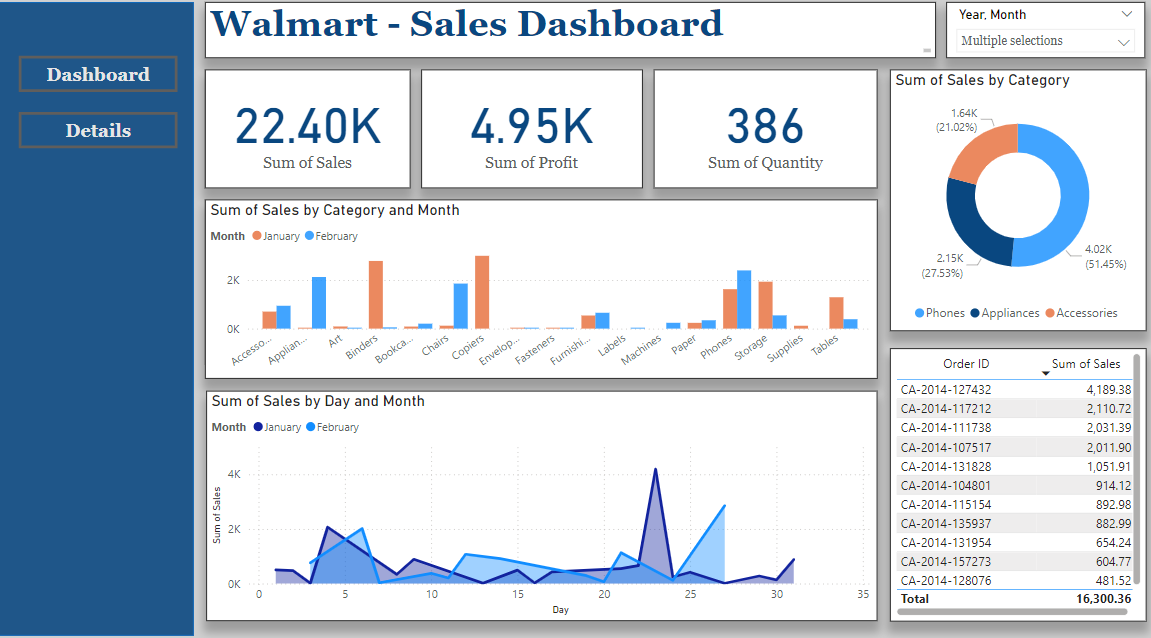

The page's visual inventory and layout, read from the dashboard file:
{"tool":"powerbi","page":{"name":"Page 1","canvas":[1280,720],"ordinal":0},"visuals":[{"type":"card","fields":{"Values":["Sum(Walmart.Sales)"]},"box":[235.7,85.7,225.7,130],"z":0,"group":"g1"},{"type":"shape","box":[9.6,11,214.1,695.7],"z":0},{"type":"card","fields":{"Values":["Sum(Walmart.Profit)"]},"box":[472.8,85.7,242.9,130],"z":1000,"group":"g1"},{"type":"actionButton","box":[31.6,70,174.3,39.8],"z":1000},{"type":"card","fields":{"Values":["Sum(Walmart.Quantity)"]},"box":[728.6,85.7,245.7,130],"z":2000,"group":"g1"},{"type":"actionButton","box":[31.6,131.7,174.3,39.8],"z":2000},{"type":"textbox","title":"Walmart - Sales Dashboard","box":[236,11,802.7,61.7],"z":3000},{"type":"clusteredColumnChart","fields":{"Category":["Walmart.Category"],"Y":["Sum(Walmart.Sales)"],"Series":["Walmart.Order Month.Variation.Date Hierarchy.Month"]},"box":[235.7,228.6,738.6,197.1],"z":3000,"group":"g1"},{"type":"slicer","fields":{"Values":["Walmart.Order Month.Variation.Date Hierarchy.Year","Walmart.Order Month.Variation.Date Hierarchy.Month"]},"box":[1049.7,11,218.2,61.7],"z":4000},{"type":"areaChart","fields":{"Category":["Walmart.Order Month.Variation.Date Hierarchy.Day"],"Y":["Sum(Walmart.Sales)"],"Series":["Walmart.Order Month.Variation.Date Hierarchy.Month"]},"box":[237.1,438.6,737.1,252.9],"z":4000,"group":"g1"},{"type":"donutChart","fields":{"Y":["Sum(Walmart.Sales)"],"Category":["Walmart.Category"]},"box":[987.1,85.7,281.4,287.1],"z":5000,"group":"g1"},{"type":"group","id":"g1","title":"Group 1","box":[235.7,85.7,1032.9,605.7],"z":5000},{"type":"tableEx","fields":{"Values":["Walmart.Order ID","Sum(Walmart.Sales)"]},"box":[987.1,391.4,281.4,300],"z":6000,"group":"g1"}]}

Visuals, with their boxes in screenshot pixels (x1, y1, x2, y2):
card - Sum(Walmart.Sales): bbox(202, 69, 406, 187)
shape: bbox(0, 1, 191, 632)
card - Sum(Walmart.Profit): bbox(417, 69, 637, 187)
actionButton: bbox(17, 54, 175, 91)
card - Sum(Walmart.Quantity): bbox(649, 69, 871, 187)
actionButton: bbox(17, 110, 175, 146)
"Walmart - Sales Dashboard" textbox: bbox(202, 1, 930, 57)
clusteredColumnChart - Walmart.Category x Sum(Walmart.Sales): bbox(202, 198, 871, 377)
slicer - Walmart.Order Month.Variation.Date Hierarchy.Year x Walmart.Order Month.Variation.Date Hierarchy.Month: bbox(940, 1, 1138, 57)
areaChart - Walmart.Order Month.Variation.Date Hierarchy.Day x Sum(Walmart.Sales): bbox(203, 389, 871, 618)
donutChart - Sum(Walmart.Sales) x Walmart.Category: bbox(883, 69, 1138, 329)
"Group 1" group: bbox(202, 69, 1138, 618)
tableEx - Walmart.Order ID x Sum(Walmart.Sales): bbox(883, 346, 1138, 618)
